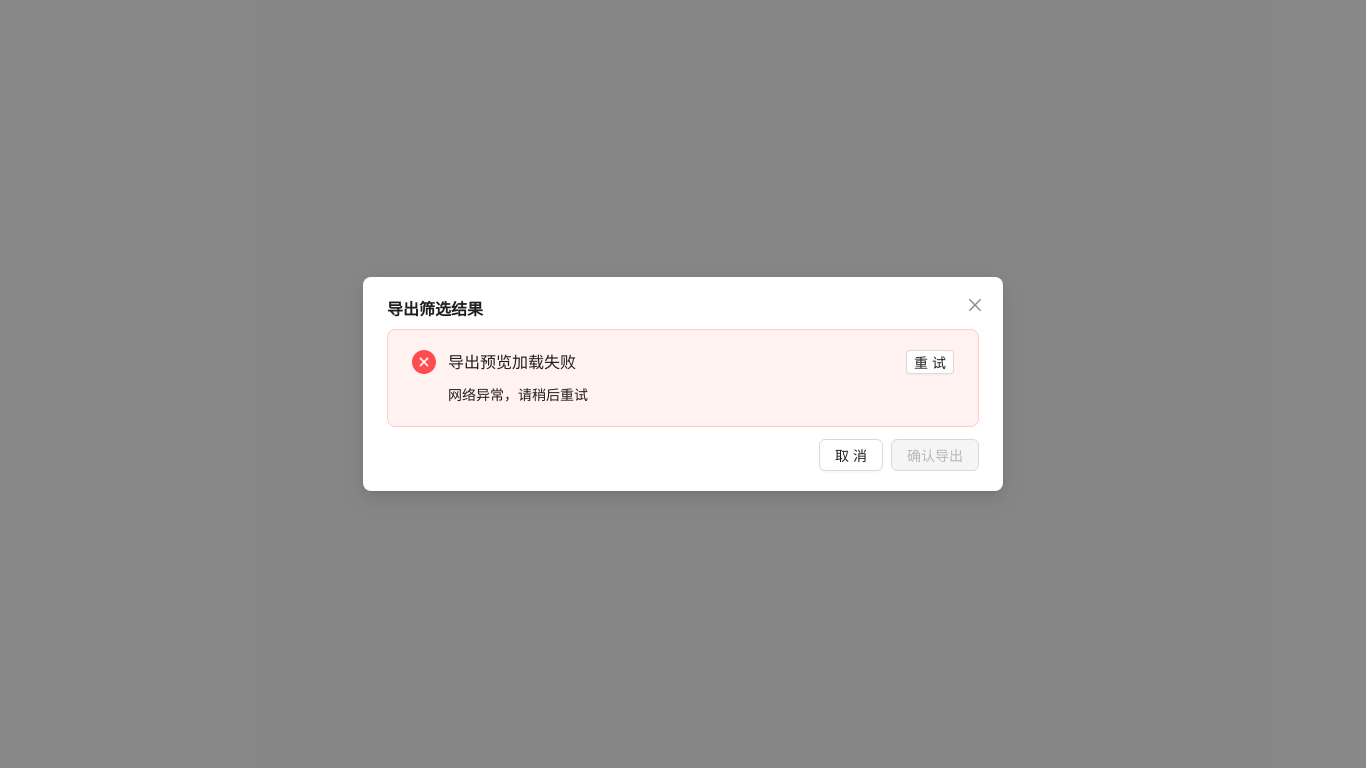
网络中断：弹窗内提示并可重试，重试成功后显示预览
Expected: the text "网络异常，请稍后重试" is shown, x1=448 y1=386 x2=588 y2=403
Expected: the button "确认导出" is disabled, x1=891 y1=439 x2=979 y2=471
Click the button "重 试" at (930, 362), box x1=906 y1=350 x2=954 y2=374
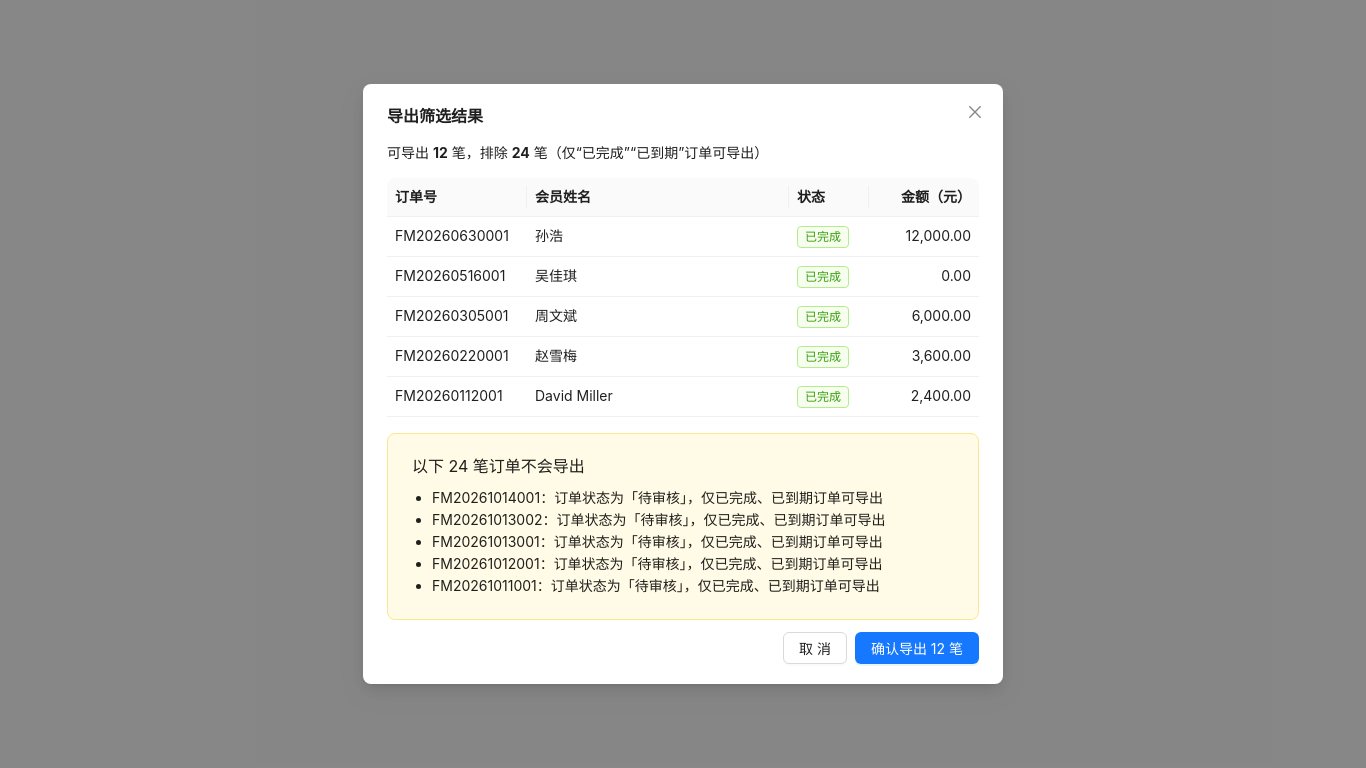
Result: the element showing "可导出 12 笔，排除 24 笔（仅“已完成”“已到期”订单可导出）" is shown at x1=387 y1=144 x2=768 y2=161
Result: the text "导出预览加载失败" is gone
